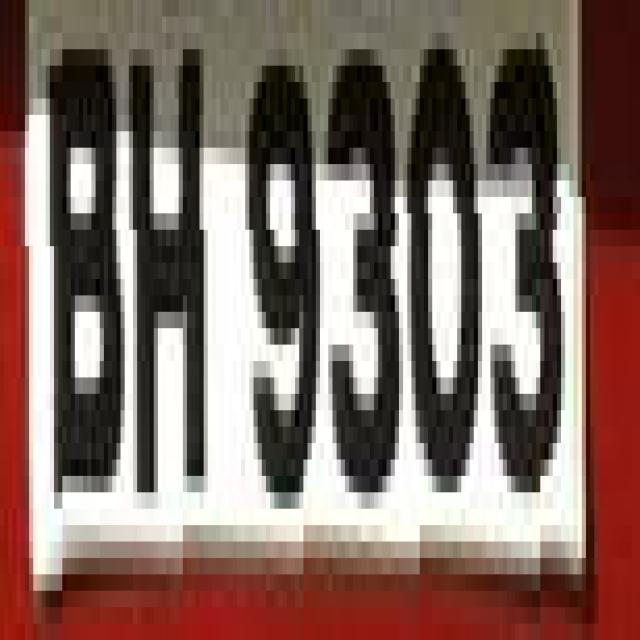plate: (0, 0, 607, 624)
